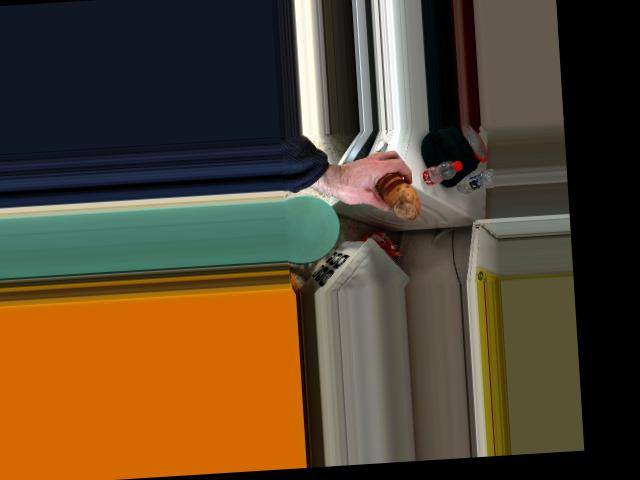sweet_potato: (376, 174, 423, 220)
